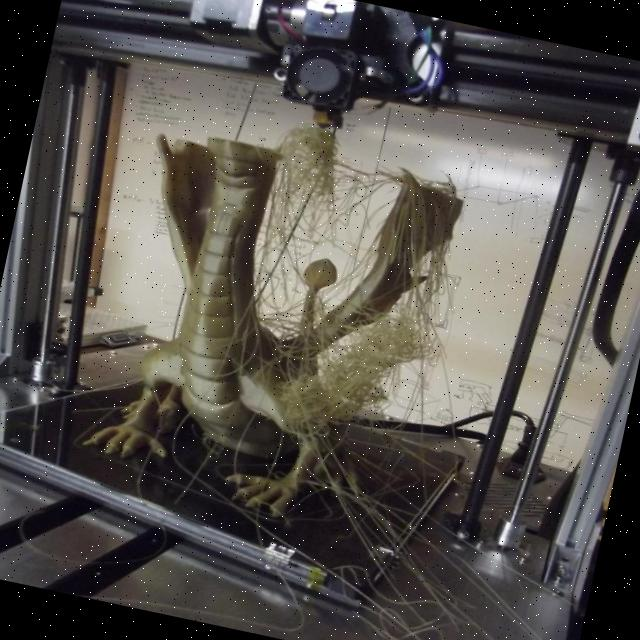spaghetti: (230, 283, 467, 482), (251, 112, 391, 274)
